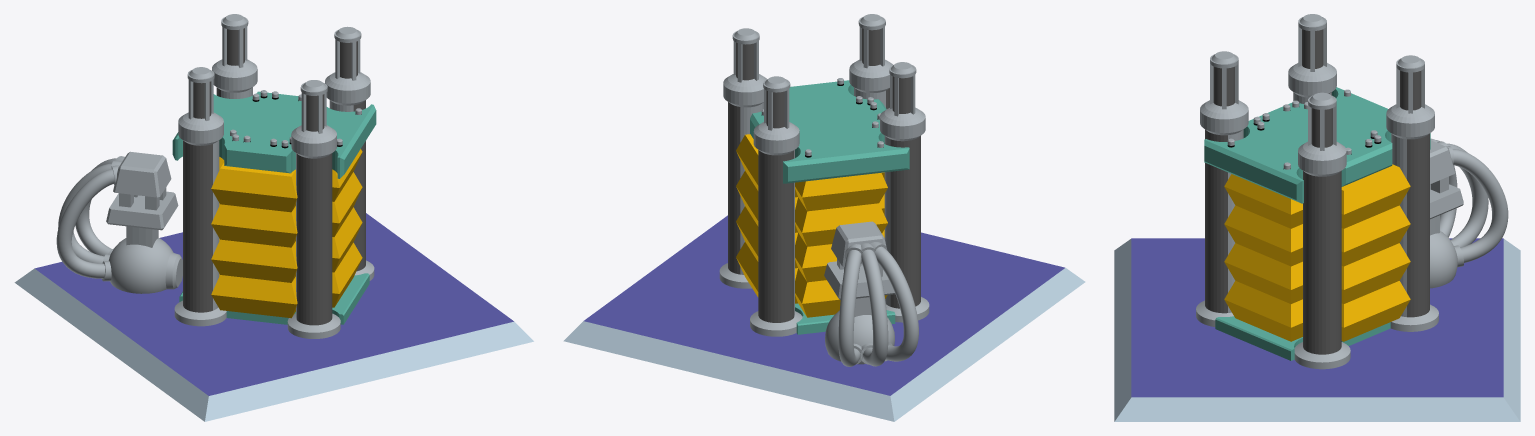
File: 71_Haarvester_FOMO7.fbx
3 views of the same model, side by side, from view 1: azimuth 30°, elevation 25°; view 2: azimuth 150°, elevation 25°; view 3: azimuth 270°, elevation 25° (orthographic). The views are drawn at different scales.
Parts seen in each view (by area): view 1: foundation7, polySurface58, pCube121, polySurface57, pSphere56, pCube122, pCube120, pCylinder104, polySurface64, polySurface62, pCylinder112, pCylinder113 (+4 smaller); view 2: foundation7, polySurface58, polySurface57, pCube120, pCube121, pCube122, pCylinder104, pCylinder103, pCylinder139, polySurface64, pSphere56, pCylinder112 (+4 smaller); view 3: foundation7, polySurface58, pCube120, pCube121, polySurface57, pCylinder139, polySurface64, polySurface62, pCube122, pCylinder112, pCylinder113, pCylinder111 (+4 smaller).
Part boxes in pixels (x1=…): foundation7: x1=14, y1=213, x2=533, y2=421; polySurface58: x1=178, y1=59, x2=370, y2=325; pCube121: x1=211, y1=162, x2=297, y2=318; polySurface57: x1=172, y1=91, x2=376, y2=178; pSphere56: x1=108, y1=226, x2=182, y2=293; pCube122: x1=106, y1=151, x2=178, y2=230; pCube120: x1=219, y1=149, x2=362, y2=307; pCylinder104: x1=56, y1=165, x2=119, y2=281; polySurface64: x1=174, y1=260, x2=374, y2=338; polySurface62: x1=179, y1=273, x2=369, y2=324; pCylinder112: x1=221, y1=14, x2=248, y2=67; pCylinder113: x1=334, y1=26, x2=361, y2=80; foundation7: x1=563, y1=215, x2=1085, y2=421; polySurface58: x1=723, y1=59, x2=925, y2=322; polySurface57: x1=750, y1=80, x2=909, y2=183; pCube120: x1=795, y1=173, x2=887, y2=317; pCube121: x1=736, y1=134, x2=884, y2=303; pCube122: x1=824, y1=221, x2=894, y2=299; pCylinder104: x1=870, y1=242, x2=918, y2=361; pCylinder103: x1=859, y1=243, x2=888, y2=366; pCylinder139: x1=838, y1=244, x2=862, y2=366; polySurface64: x1=719, y1=263, x2=929, y2=336; pSphere56: x1=825, y1=297, x2=894, y2=364; pCylinder112: x1=763, y1=76, x2=790, y2=130; foundation7: x1=1114, y1=238, x2=1520, y2=421; polySurface58: x1=1200, y1=63, x2=1434, y2=354; pCube120: x1=1224, y1=174, x2=1302, y2=341; pCube121: x1=1341, y1=164, x2=1410, y2=341; polySurface57: x1=1204, y1=87, x2=1430, y2=203; pCylinder139: x1=1446, y1=146, x2=1508, y2=267; polySurface64: x1=1196, y1=300, x2=1438, y2=369; polySurface62: x1=1215, y1=316, x2=1390, y2=360; pCube122: x1=1430, y1=140, x2=1463, y2=219; pCylinder112: x1=1396, y1=55, x2=1424, y2=113; pCylinder113: x1=1308, y1=92, x2=1336, y2=150; pCylinder111: x1=1210, y1=51, x2=1238, y2=109.
Bounding box in the file's own units: 2 × 1.53 × 2.
